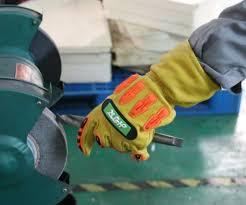gloves: (77, 39, 220, 161)
